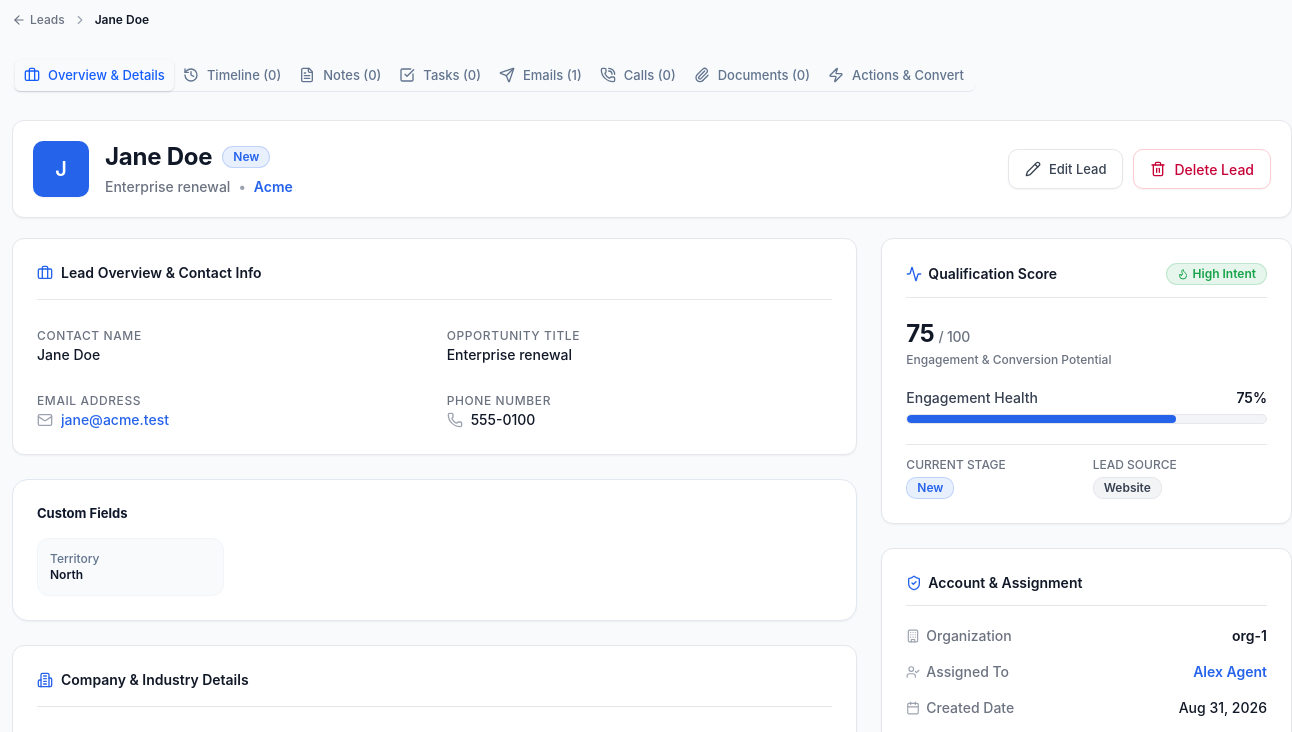
Test: LeadDetailPage email workflow › renders expandable email history with the message body
The image size is (1292, 732).
Step 1. Click the tab "Emails (1)" → point(540, 75), box x1=490 y1=60 x2=591 y2=90
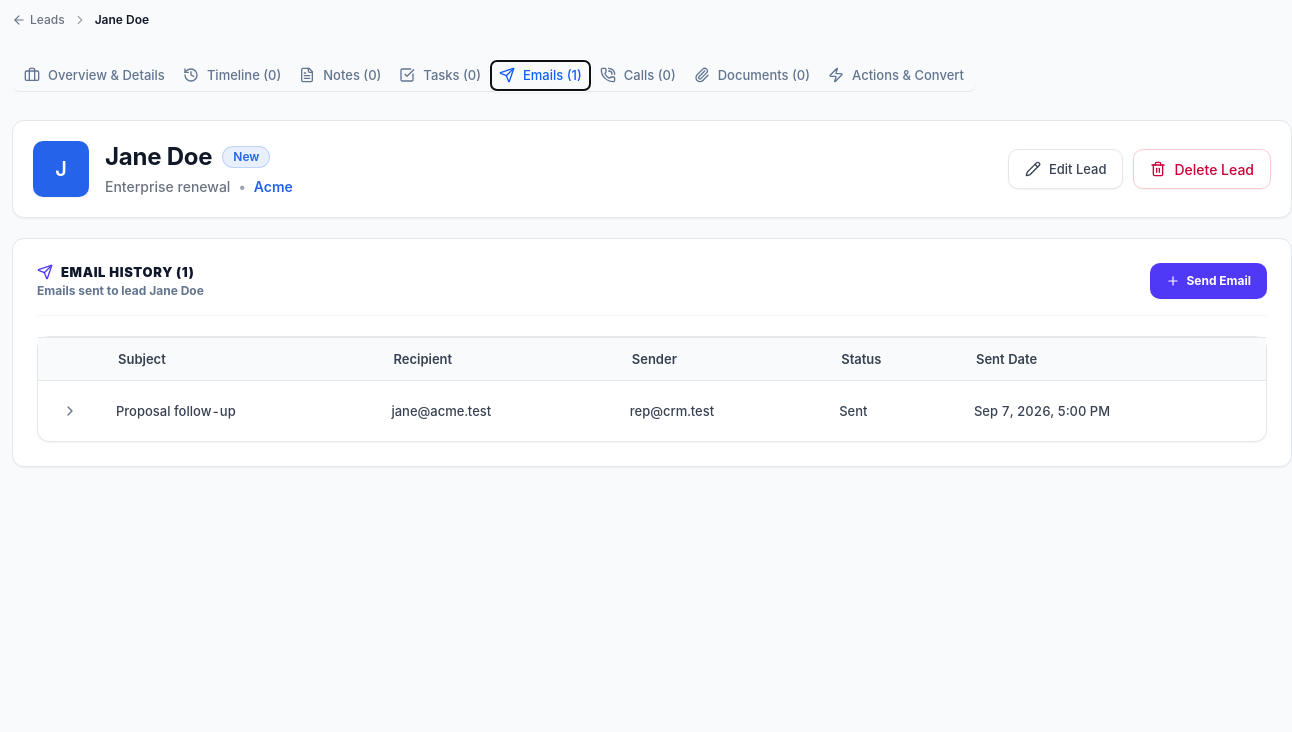
Expected: the text "Please review the proposal" is not shown
Expected: the text "Proposal follow-up" is shown, x1=102 y1=380 x2=377 y2=441
Step 2. Click the button named "Expand row" → point(70, 411), box x1=48 y1=389 x2=92 y2=433
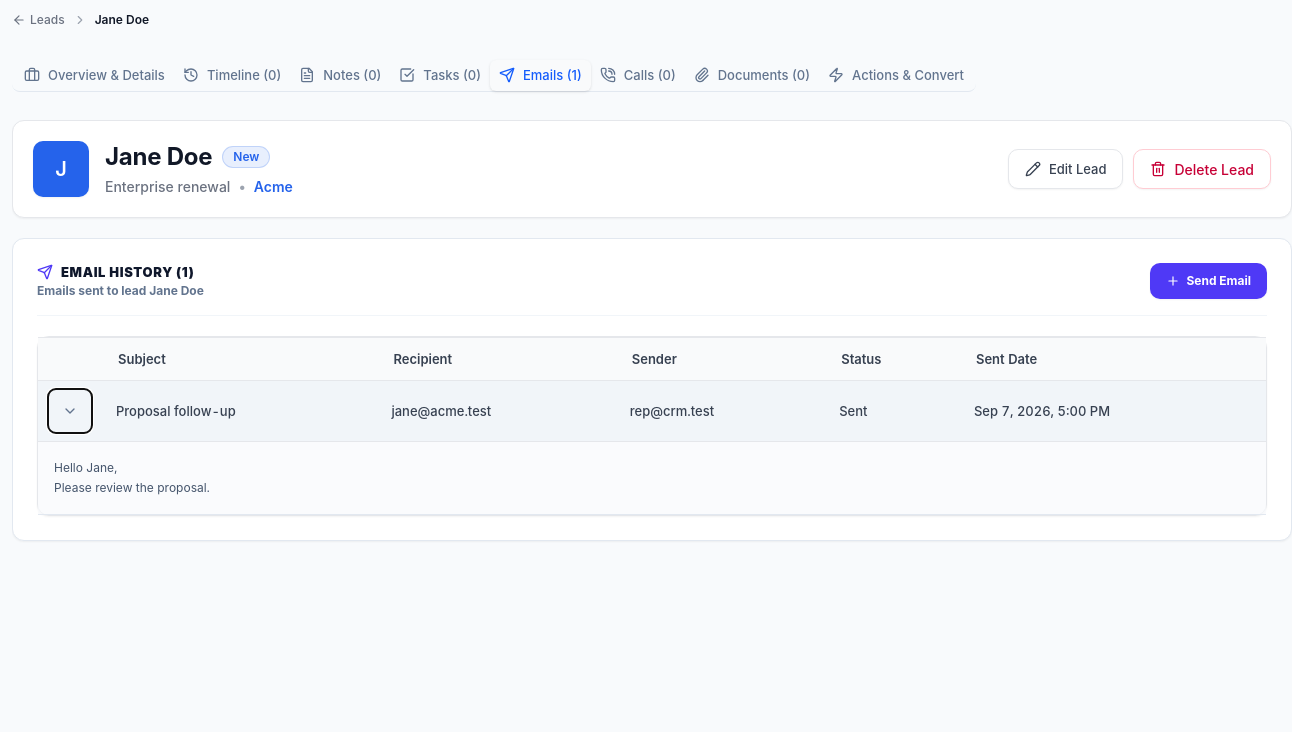
Expected: the text "Hello Jane, Please review the proposal." is shown, x1=54 y1=460 x2=210 y2=495
